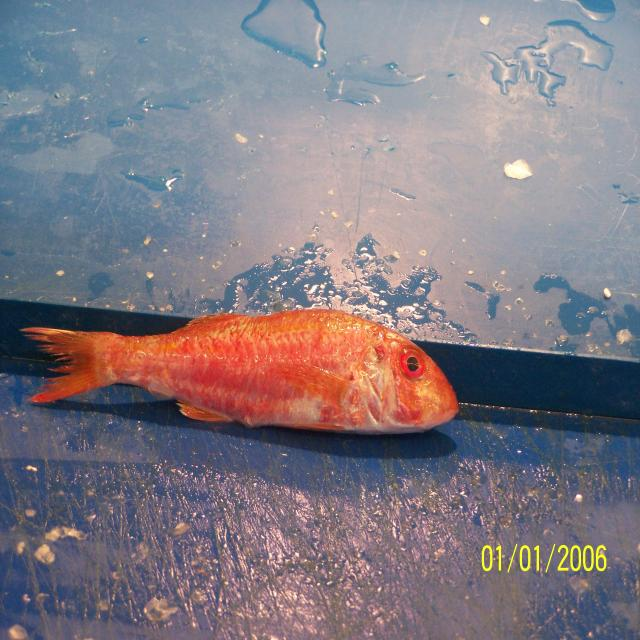Red-Mullet-kefal-: (19, 308, 460, 437)
